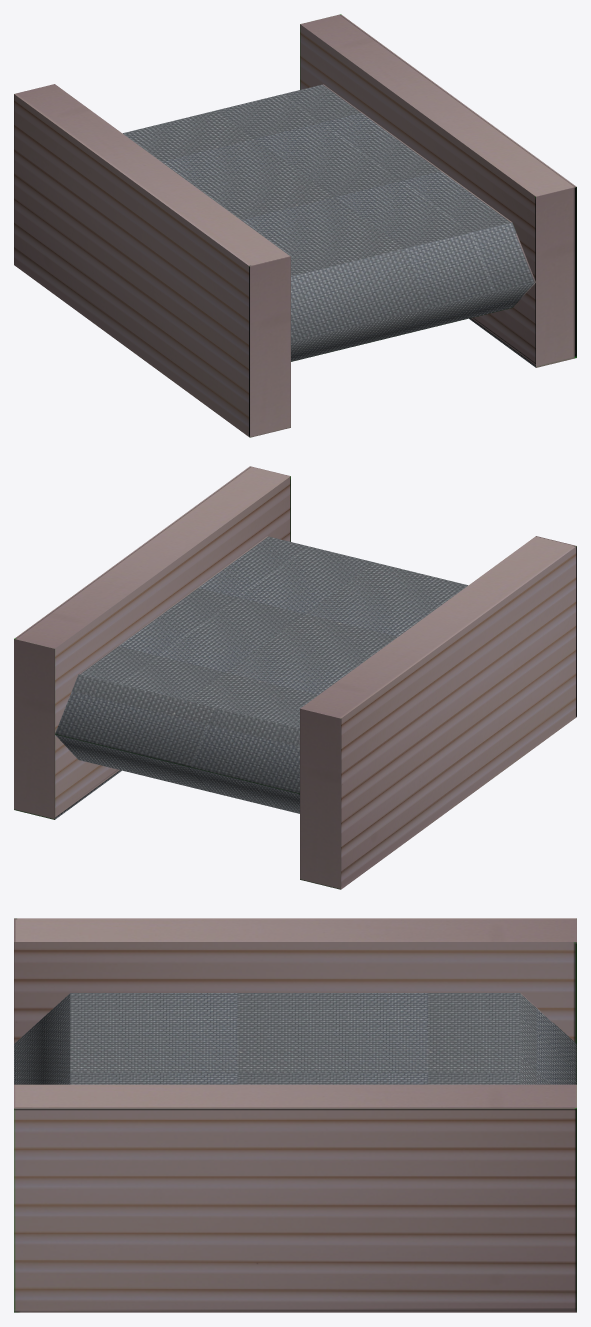
Rendered from Conveyor_Belt_Piece.FBX.
3 renders of one model, top to bottom at view 1: azimuth 30°, elevation 25°; view 2: azimuth 150°, elevation 25°; view 3: azimuth 270°, elevation 25°, orthographic. The views are drawn at different scales.
Parts seen in each view (by area): view 1: Box001; view 2: Box001; view 3: Box001.
Boxes of the visible parts, box(x1,y1,x2,y2) form: Box001: box(14, 14, 576, 437); Box001: box(14, 466, 576, 889); Box001: box(14, 918, 576, 1312).
Size of the model in its own units: 80 by 40 by 100.
